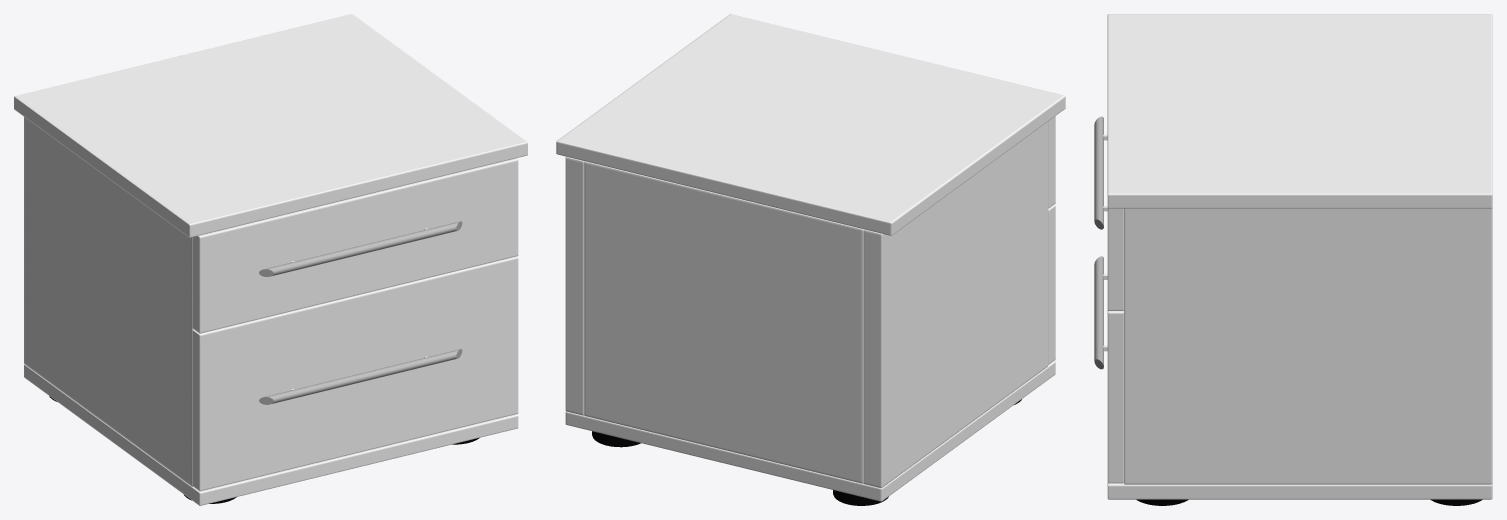
The model's file is cabinet_B07H8SKPWP.glb.
The picture shows the model from 3 angles, left to right: view 1: azimuth 30°, elevation 25°; view 2: azimuth 150°, elevation 25°; view 3: azimuth 270°, elevation 25°; orthographic projection. The views are drawn at different scales.
Visible parts, largest first — view 1: B07H8SKPWP; view 2: B07H8SKPWP; view 3: B07H8SKPWP.
Boxes of the visible parts, <box> form: B07H8SKPWP: <box>14,14,527,505</box>; B07H8SKPWP: <box>556,14,1065,505</box>; B07H8SKPWP: <box>1094,14,1492,505</box>.
Bounding box in the file's own units: 0.4298 × 0.3599 × 0.3998.
1 material, 1 textured.
